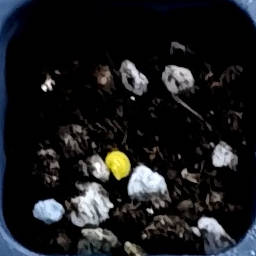pepper seed: (38, 59, 170, 241)
